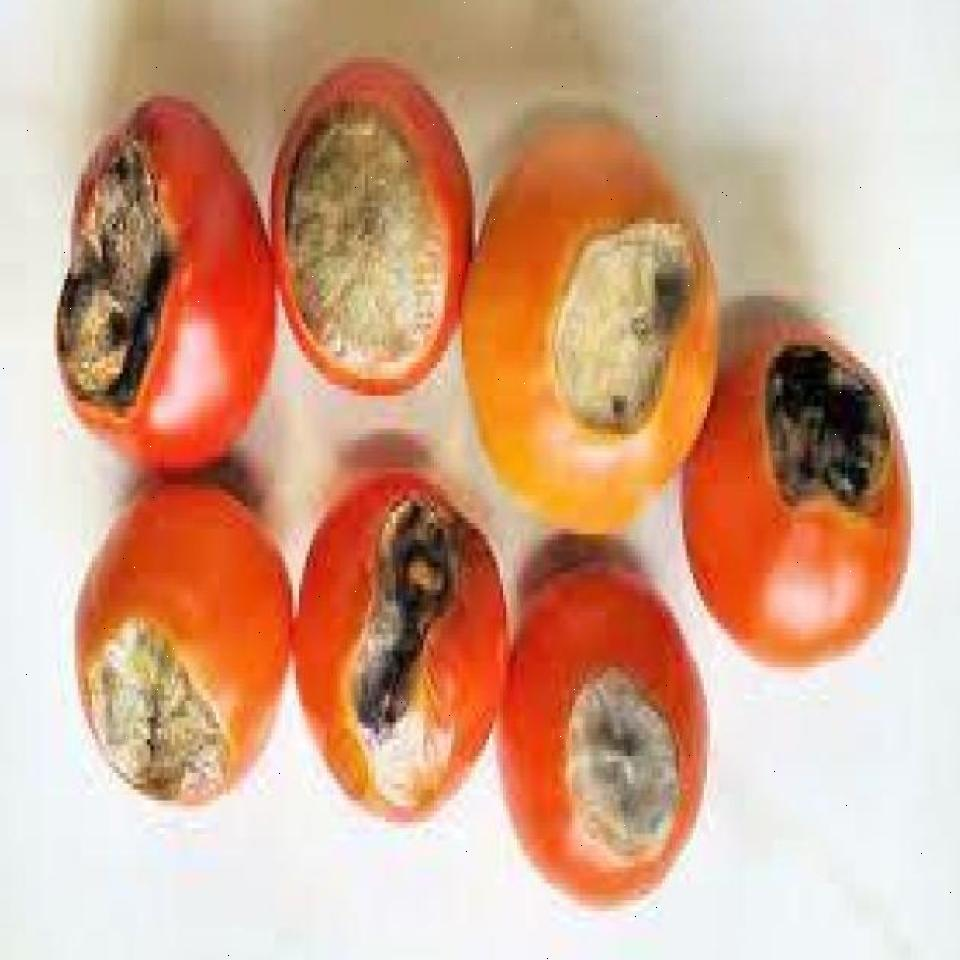Blossom_end_rot: (276, 96, 442, 396), (52, 118, 176, 451), (338, 496, 472, 762), (548, 216, 700, 448), (73, 626, 238, 820), (760, 341, 896, 529), (557, 670, 678, 876)
